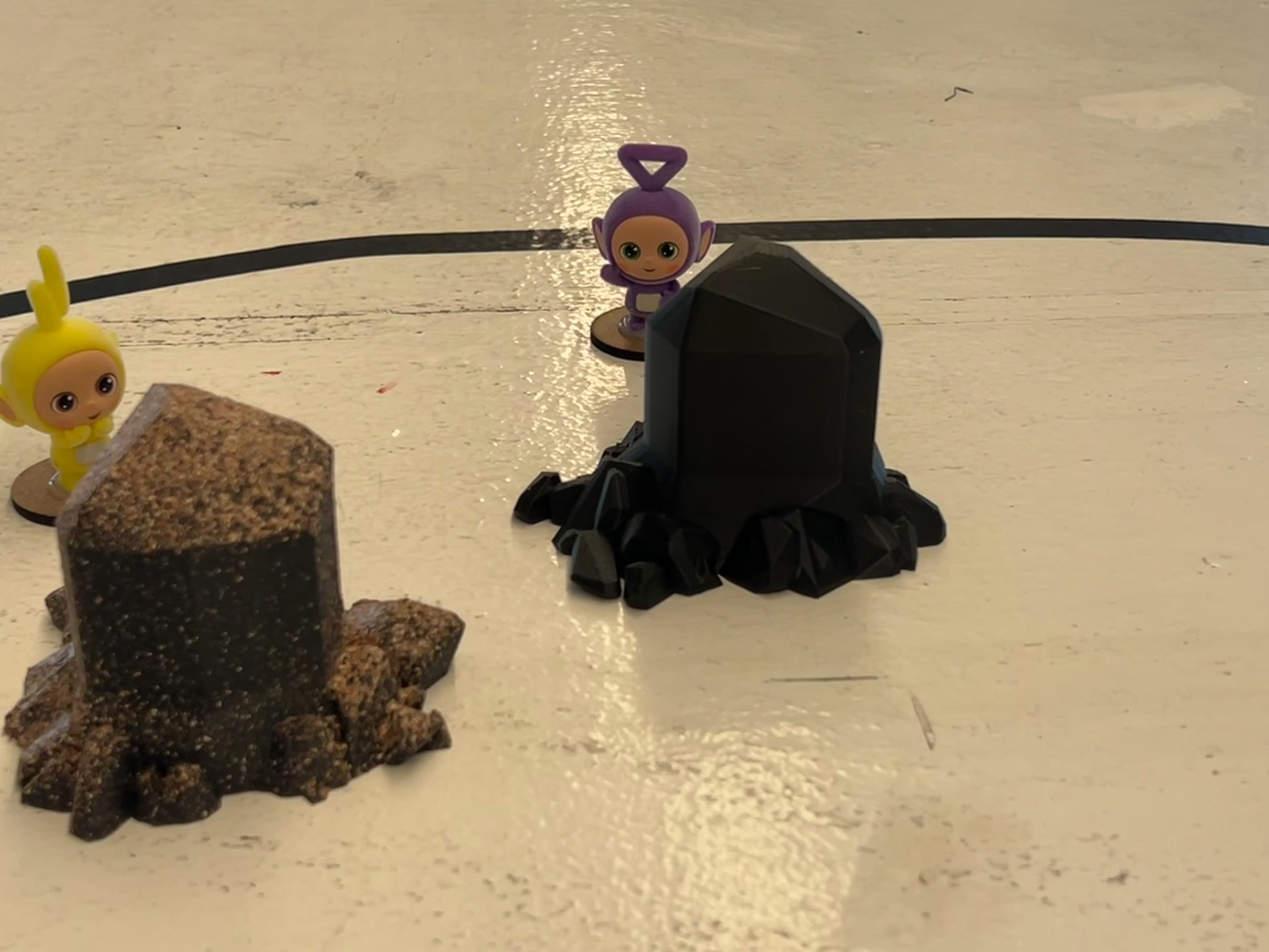teletubby: (0, 247, 126, 492), (592, 143, 715, 339)
